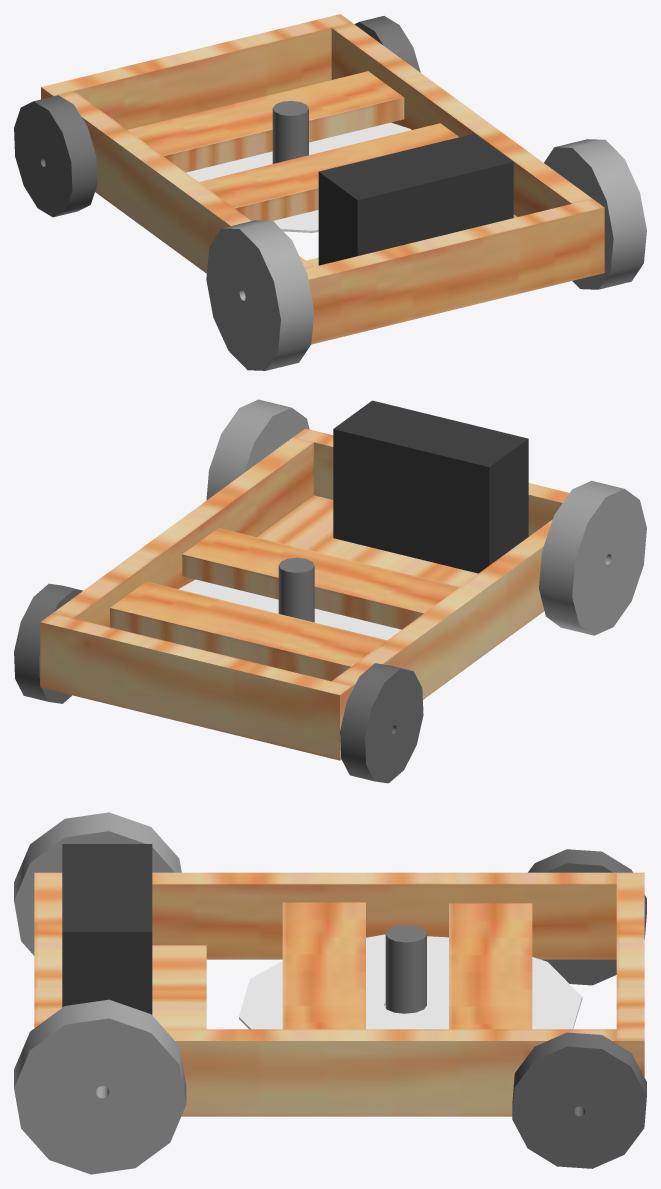
File: kosiarka.dae
3 views of the same model, one above another, from view 1: azimuth 30°, elevation 25°; view 2: azimuth 150°, elevation 25°; view 3: azimuth 270°, elevation 25° (orthographic). The views are drawn at different scales.
Parts seen in each view (by area): view 1: group_13, group_11, group_7, group_1, group_5, group_3, group_10, group_6, group_12, group_8, group_14, group_4 (+1 smaller); view 2: group_11, group_7, group_5, group_1, group_3, group_10, group_12, group_6, group_9, group_8, group_2, group_13 (+2 smaller); view 3: group_10, group_3, group_8, group_2, group_11, group_12, group_5, group_14, group_1, group_7, group_9, group_13 (+2 smaller).
Boxes of the visible parts, <box> form: group_13: <box>305,199,604,344</box>; group_11: <box>318,133,513,265</box>; group_7: <box>41,14,351,129</box>; group_1: <box>206,220,314,370</box>; group_5: <box>128,71,404,172</box>; group_3: <box>53,91,313,273</box>; group_10: <box>331,23,592,216</box>; group_6: <box>14,95,97,217</box>; group_12: <box>199,123,458,220</box>; group_8: <box>544,139,646,289</box>; group_14: <box>186,122,411,232</box>; group_4: <box>272,101,308,163</box>; group_11: <box>333,400,528,573</box>; group_7: <box>40,613,351,760</box>; group_5: <box>110,581,386,681</box>; group_1: <box>539,480,646,635</box>; group_3: <box>331,519,552,699</box>; group_10: <box>53,437,313,627</box>; group_12: <box>182,528,459,629</box>; group_6: <box>340,663,423,783</box>; group_9: <box>257,495,477,586</box>; group_8: <box>206,399,309,500</box>; group_2: <box>14,583,82,703</box>; group_13: <box>293,428,569,536</box>; group_10: <box>165,1029,616,1116</box>; group_3: <box>152,872,616,959</box>; group_8: <box>14,999,186,1174</box>; group_2: <box>512,1032,646,1168</box>; group_11: <box>62,844,152,1014</box>; group_12: <box>282,902,365,1029</box>; group_5: <box>449,903,532,1029</box>; group_14: <box>239,934,582,1029</box>; group_1: <box>14,812,181,955</box>; group_7: <box>616,872,644,1076</box>; group_9: <box>152,945,206,1029</box>; group_13: <box>34,872,62,1027</box>.
Size of the model in its own units: 13.84 by 17.97 by 5.62.
6 materials, 1 textured.
